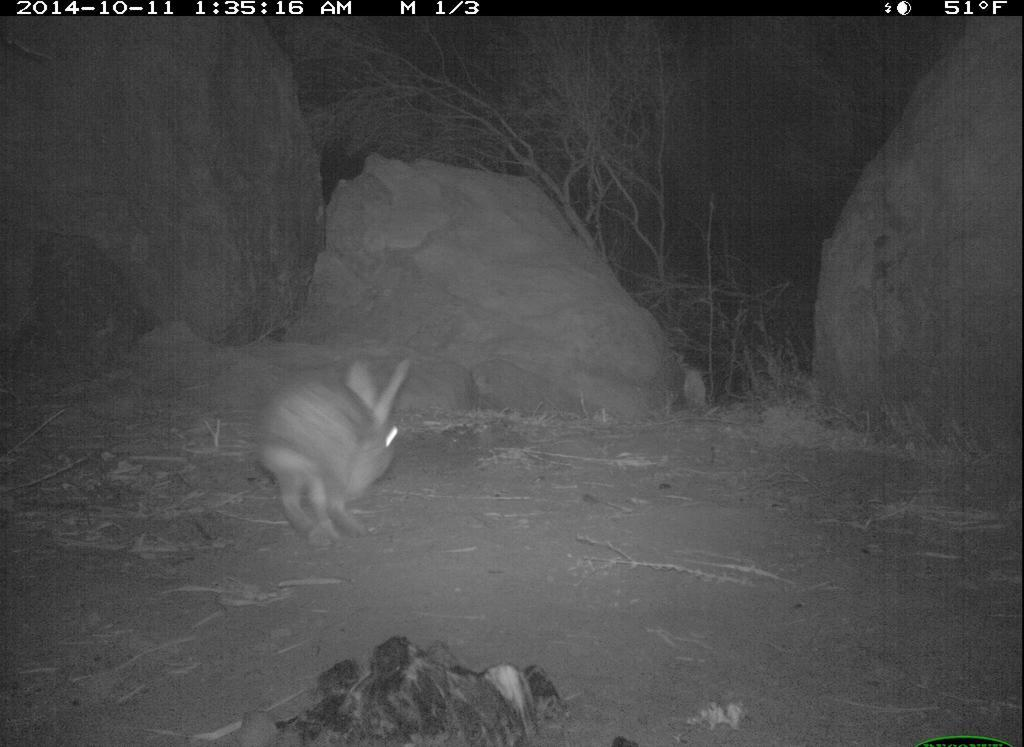rabbit: (248, 350, 415, 552)
